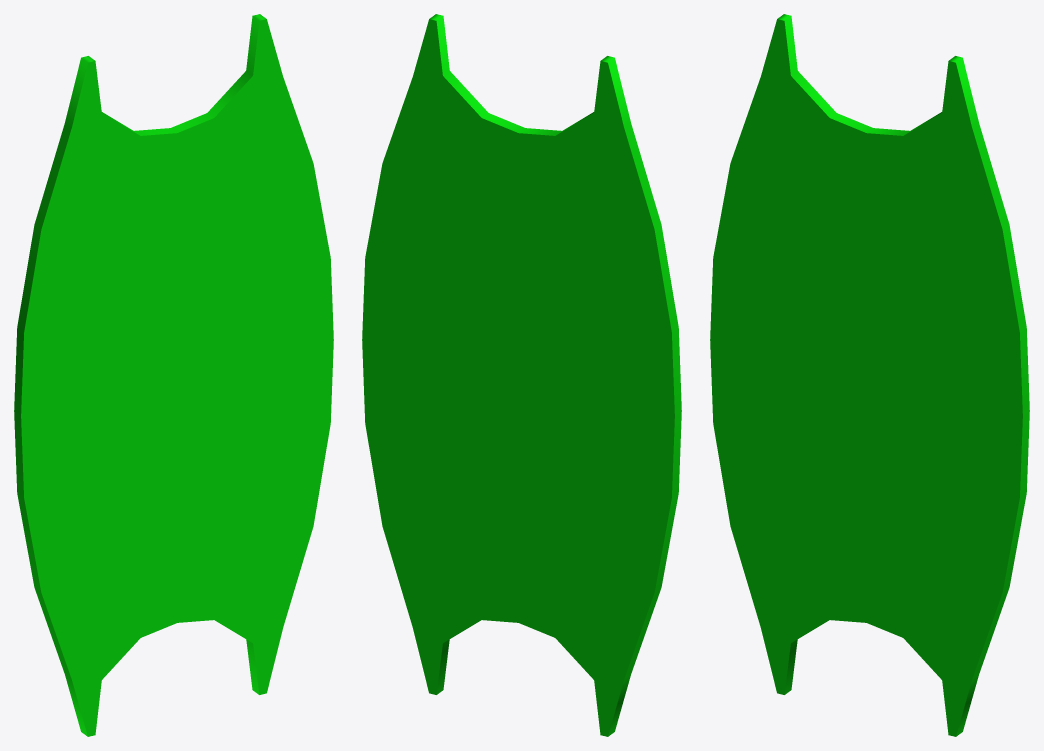
Rendered from oval_07_b.dae.
3 renders of one model, left to right at view 1: azimuth 30°, elevation 25°; view 2: azimuth 150°, elevation 25°; view 3: azimuth 330°, elevation 25°, orthographic.
Visible parts, largest first — view 1: Celtic_shield_I; view 2: Celtic_shield_I; view 3: Celtic_shield_I.
Part boxes in pixels (<box>): Celtic_shield_I: <box>14,14,333,736</box>; Celtic_shield_I: <box>362,14,681,736</box>; Celtic_shield_I: <box>710,14,1029,736</box>.
Size of the model in its own units: 1.2 by 0.0461 by 2.47.
